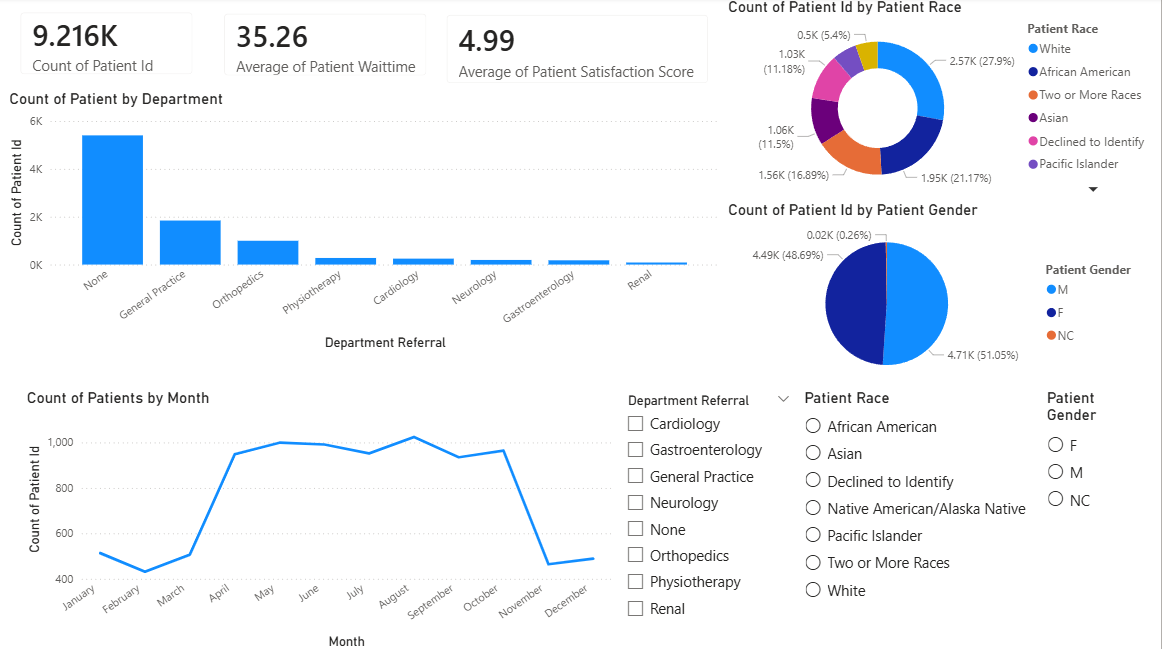

Layout of this report page (visuals, bound fields, positions):
{"tool":"powerbi","page":{"name":"Page 1","canvas":[1280,720],"ordinal":0},"visuals":[{"type":"cardVisual","fields":{"Data":["Count(hospital.Patient Id)"]},"box":[10.5,0,223.6,102.1],"z":0},{"type":"cardVisual","fields":{"Data":["Avg(hospital.Patient Waittime)"]},"box":[234.1,1.5,256.7,102.1],"z":1},{"type":"cardVisual","fields":{"Data":["Avg(hospital.Patient Satisfaction Score)"]},"box":[478.8,3,321.2,109.6],"z":2},{"type":"clusteredColumnChart","title":"Count of Patient by Department","fields":{"Category":["hospital.Department Referral"],"Y":["CountNonNull(hospital.Patient Id)"]},"box":[10.5,102.1,789.5,291.2],"z":3},{"type":"pieChart","fields":{"Category":["hospital.Patient Gender"],"Y":["CountNonNull(hospital.Patient Id)"]},"box":[800,223.6,468.3,205.6],"z":4},{"type":"donutChart","fields":{"Category":["hospital.Patient Race"],"Y":["CountNonNull(hospital.Patient Id)"]},"box":[800,0,480.3,223.6],"z":5},{"type":"lineChart","title":"Count of Patients by Month","fields":{"Y":["CountNonNull(hospital.Patient Id)"],"Category":["hospital.Patient Admission Date.Variation.Date Hierarchy.Year","hospital.Patient Admission Date.Variation.Date Hierarchy.Quarter","hospital.Patient Admission Date.Variation.Date Hierarchy.Month","hospital.Patient Admission Date.Variation.Date Hierarchy.Day"]},"box":[30,429.3,651.4,291.2],"z":6},{"type":"slicer","fields":{"Values":["hospital.Department Referral"]},"box":[681.4,429.3,202.6,291.2],"z":7},{"type":"listSlicer","fields":{"Values":["hospital.Patient Gender"]},"box":[1149.7,429.3,130.6,291.2],"z":8},{"type":"listSlicer","fields":{"Values":["hospital.Patient Race"]},"box":[884.1,429.3,265.7,291.2],"z":9}]}

Visuals, with their boxes in screenshot pixels (x1, y1, x2, y2), scaled from the page's 1280x720 canvas onto the 1162x649 screenshot:
cardVisual - Count(hospital.Patient Id): <bbox>10, 0, 213, 92</bbox>
cardVisual - Avg(hospital.Patient Waittime): <bbox>213, 1, 446, 93</bbox>
cardVisual - Avg(hospital.Patient Satisfaction Score): <bbox>435, 3, 726, 101</bbox>
"Count of Patient by Department" clusteredColumnChart: <bbox>10, 92, 726, 355</bbox>
pieChart - hospital.Patient Gender x CountNonNull(hospital.Patient Id): <bbox>726, 202, 1151, 387</bbox>
donutChart - hospital.Patient Race x CountNonNull(hospital.Patient Id): <bbox>726, 0, 1161, 202</bbox>
"Count of Patients by Month" lineChart: <bbox>27, 387, 619, 648</bbox>
slicer - hospital.Department Referral: <bbox>619, 387, 803, 648</bbox>
listSlicer - hospital.Patient Gender: <bbox>1044, 387, 1161, 648</bbox>
listSlicer - hospital.Patient Race: <bbox>803, 387, 1044, 648</bbox>
